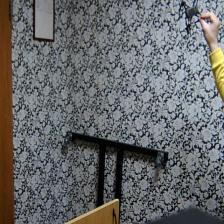drone: (170, 0, 216, 40)
